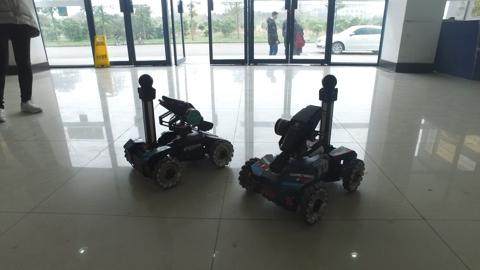chariot: (236, 58, 366, 238), (110, 69, 235, 196)
